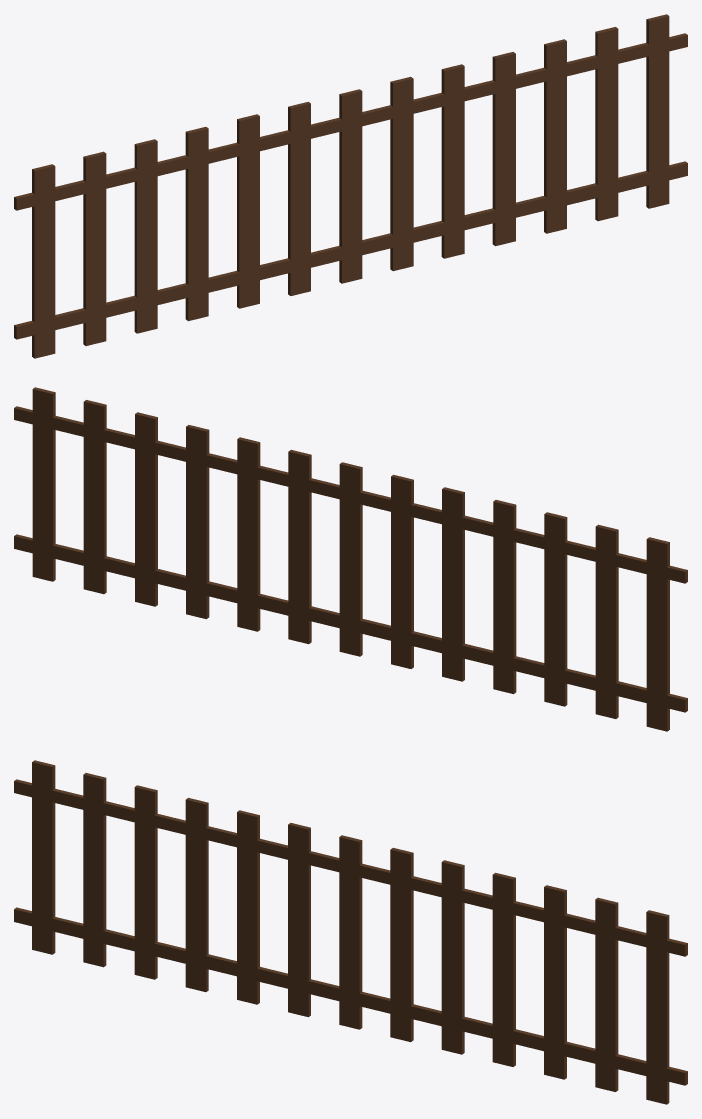
The model's file is Fence.obj.
3 views of the same model, one above another, from view 1: azimuth 30°, elevation 25°; view 2: azimuth 150°, elevation 25°; view 3: azimuth 330°, elevation 25° (orthographic).
Parts seen in each view (by area): view 1: 立方体.004; view 2: 立方体.004; view 3: 立方体.004.
Part boxes in pixels (<box>): 立方体.004: <box>14,14,687,358</box>; 立方体.004: <box>14,387,687,731</box>; 立方体.004: <box>14,760,687,1104</box>.
Bounding box in the file's own units: 59.9 × 16 × 0.4.
Materials: 1 (1 with a texture image).
